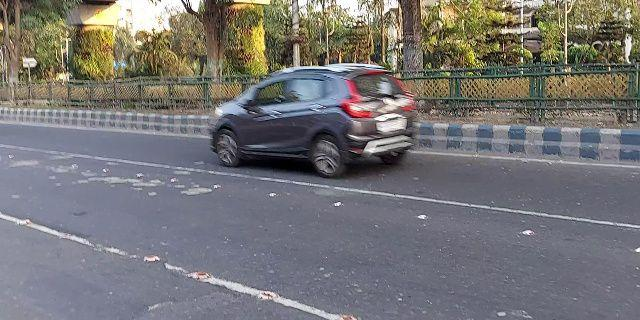Car: (206, 63, 417, 180)
